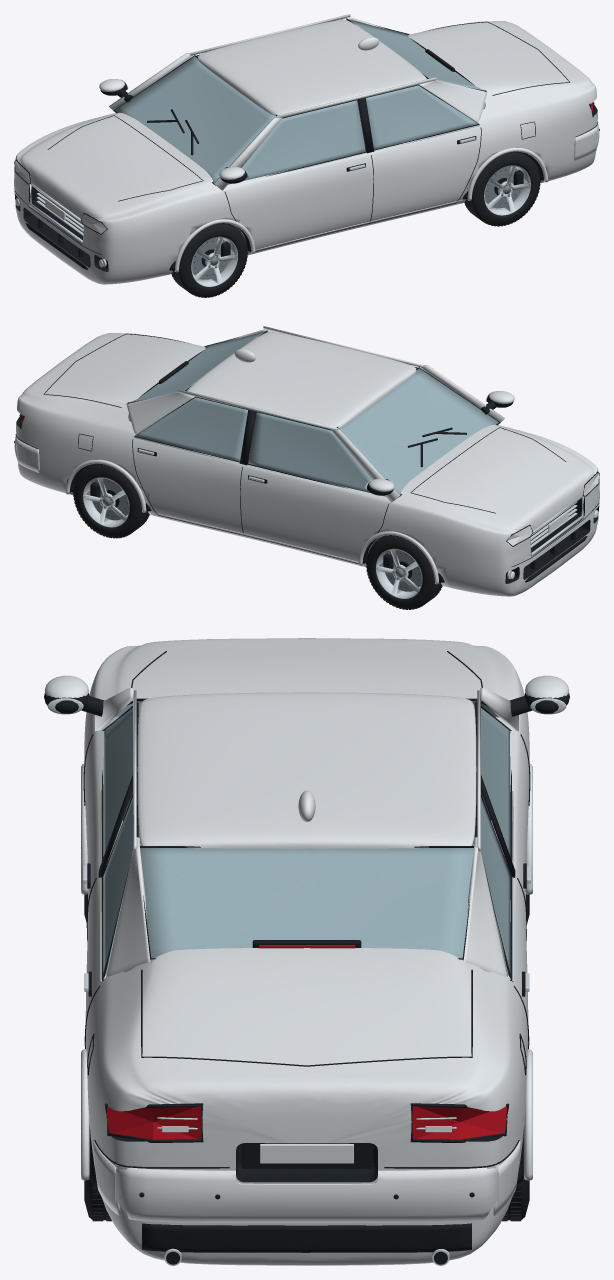
File: automotive_painting_car.dae
3 renders of one model, top to bottom at view 1: azimuth 30°, elevation 25°; view 2: azimuth 150°, elevation 25°; view 3: azimuth 270°, elevation 25°, orthographic. The views are drawn at different scales.
Parts seen in each view (by area): view 1: CAR_MASTER_BACKUP, Crowned roof pressing.001, Raked laminated windshield, Front side door glass, Rear side door glass, 107 reused Sculpted_tyre, 107 reused Sculpted_tyre.002, Watertight 14-station body shell, Sloping rear glass, Surface integrated sedan rear roof pillar.002, 107 reused Alloy_five_spoke_rim, 107 reused Alloy_five_spoke_rim.002 (+12 smaller); view 2: CAR_MASTER_BACKUP, Crowned roof pressing.001, Raked laminated windshield, Front side door glass.001, Rear side door glass.001, 107 reused Sculpted_tyre.001, 107 reused Sculpted_tyre.003, Watertight 14-station body shell, Sloping rear glass, Surface integrated sedan rear roof pillar.003, 107 reused Alloy_five_spoke_rim.001, 107 reused Alloy_five_spoke_rim.003 (+12 smaller); view 3: CAR_MASTER_BACKUP, Crowned roof pressing.001, Sloping rear glass, Formed painted rear bumper cover.001, Sculpted rear lower bumper insert.001, Crowned roof pressing, Surface integrated sedan rear roof pillar.003, Surface integrated sedan rear roof pillar.002, Watertight 14-station body shell, Front side door glass.001, Front side door glass, Flush corner wrapping ruby lamp lens.001 (+12 smaller).
Part boxes in pixels (bbox=[...]): CAR_MASTER_BACKUP: bbox=[14, 21, 597, 284]; Crowned roof pressing.001: bbox=[198, 20, 425, 114]; Raked laminated windshield: bbox=[115, 56, 276, 182]; Front side door glass: bbox=[228, 100, 365, 184]; Rear side door glass: bbox=[366, 85, 477, 149]; 107 reused Sculpted_tyre: bbox=[172, 223, 247, 297]; 107 reused Sculpted_tyre.002: bbox=[465, 151, 539, 225]; Watertight 14-station body shell: bbox=[14, 38, 597, 284]; Sloping rear glass: bbox=[349, 19, 482, 90]; Surface integrated sedan rear roof pillar.002: bbox=[419, 80, 487, 122]; 107 reused Alloy_five_spoke_rim: bbox=[191, 236, 237, 286]; 107 reused Alloy_five_spoke_rim.002: bbox=[484, 165, 530, 215]; CAR_MASTER_BACKUP: bbox=[16, 333, 599, 596]; Crowned roof pressing.001: bbox=[188, 332, 415, 426]; Raked laminated windshield: bbox=[337, 368, 498, 494]; Front side door glass.001: bbox=[248, 412, 385, 496]; Rear side door glass.001: bbox=[136, 397, 247, 461]; 107 reused Sculpted_tyre.001: bbox=[366, 535, 441, 609]; 107 reused Sculpted_tyre.003: bbox=[73, 464, 148, 537]; Watertight 14-station body shell: bbox=[16, 350, 599, 596]; Sloping rear glass: bbox=[131, 331, 264, 402]; Surface integrated sedan rear roof pillar.003: bbox=[126, 392, 194, 434]; 107 reused Alloy_five_spoke_rim.001: bbox=[376, 548, 422, 598]; 107 reused Alloy_five_spoke_rim.003: bbox=[83, 477, 129, 527]; CAR_MASTER_BACKUP: bbox=[84, 638, 529, 1265]; Crowned roof pressing.001: bbox=[137, 692, 476, 845]; Sloping rear glass: bbox=[140, 848, 473, 958]; Formed painted rear bumper cover.001: bbox=[115, 1164, 498, 1222]; Sculpted rear lower bumper insert.001: bbox=[142, 1223, 471, 1252]; Crowned roof pressing: bbox=[142, 693, 471, 848]; Surface integrated sedan rear roof pillar.003: bbox=[463, 837, 507, 976]; Surface integrated sedan rear roof pillar.002: bbox=[106, 837, 150, 976]; Watertight 14-station body shell: bbox=[110, 830, 503, 1265]; Front side door glass.001: bbox=[481, 708, 510, 856]; Front side door glass: bbox=[103, 708, 132, 856]; Flush corner wrapping ruby lamp lens.001: bbox=[412, 1106, 506, 1139].
Bounding box in the file's own units: 4.84 × 2.18 × 1.55.
10 materials, 10 textured.
